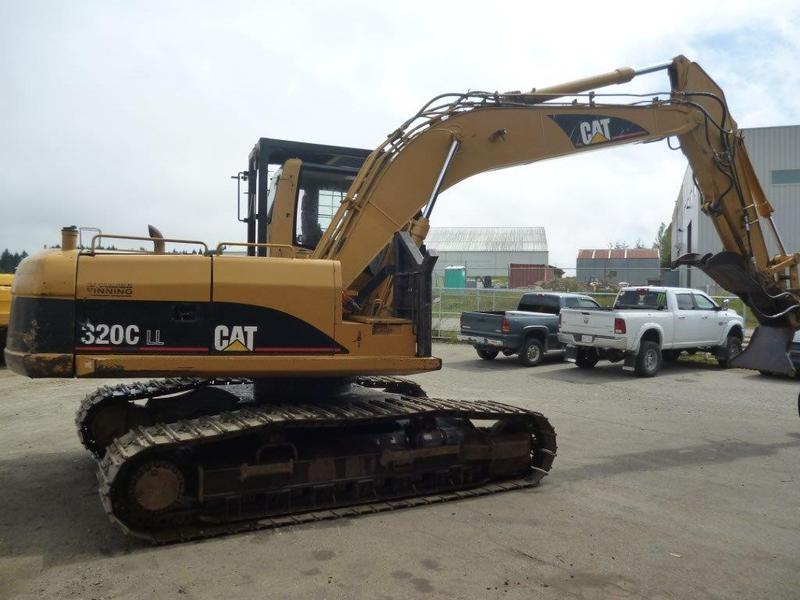shovel: (5, 52, 800, 558)
